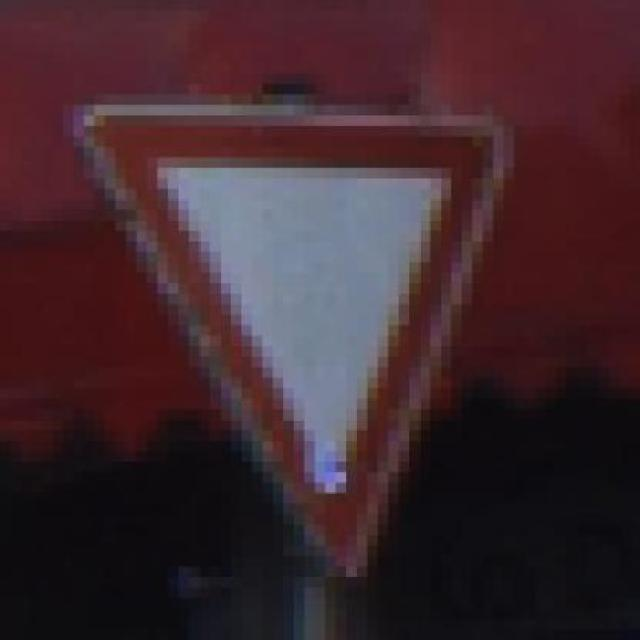Give Way: (52, 73, 546, 578)
